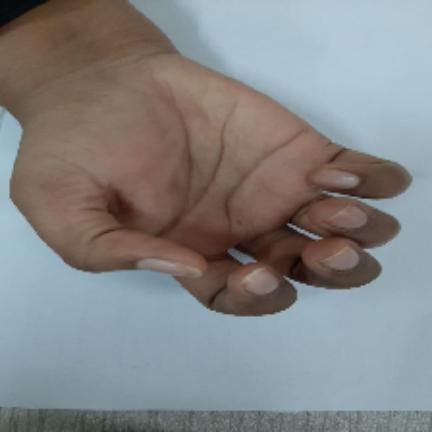Nail: (137, 258, 202, 277), (241, 267, 279, 295), (327, 204, 368, 229), (320, 245, 359, 271), (313, 169, 360, 190)
